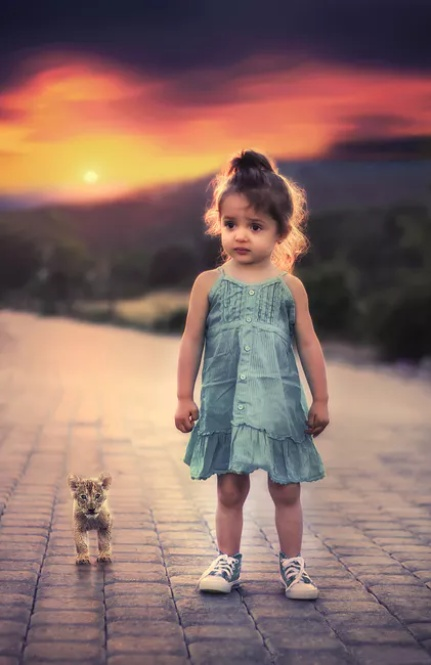face: (222, 192, 279, 264)
